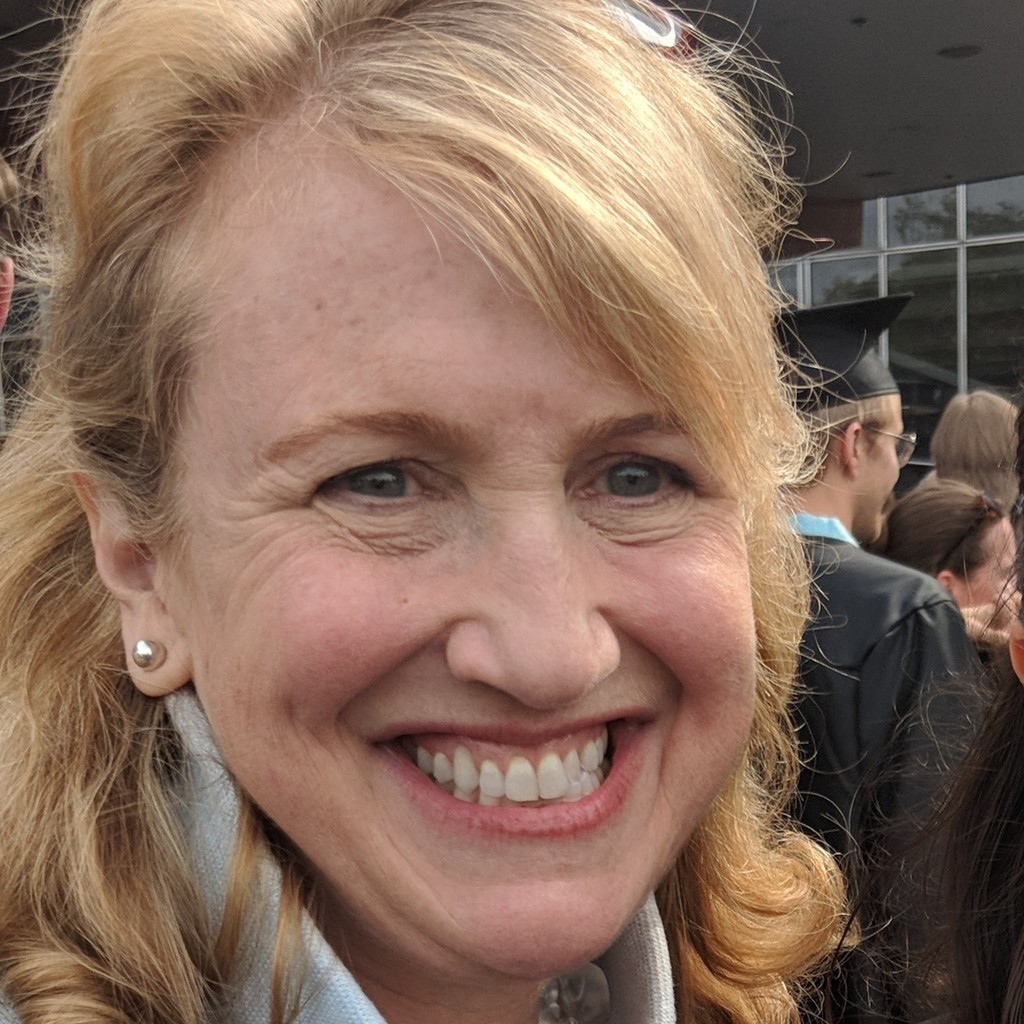sin_mascara: (104, 111, 807, 977)
